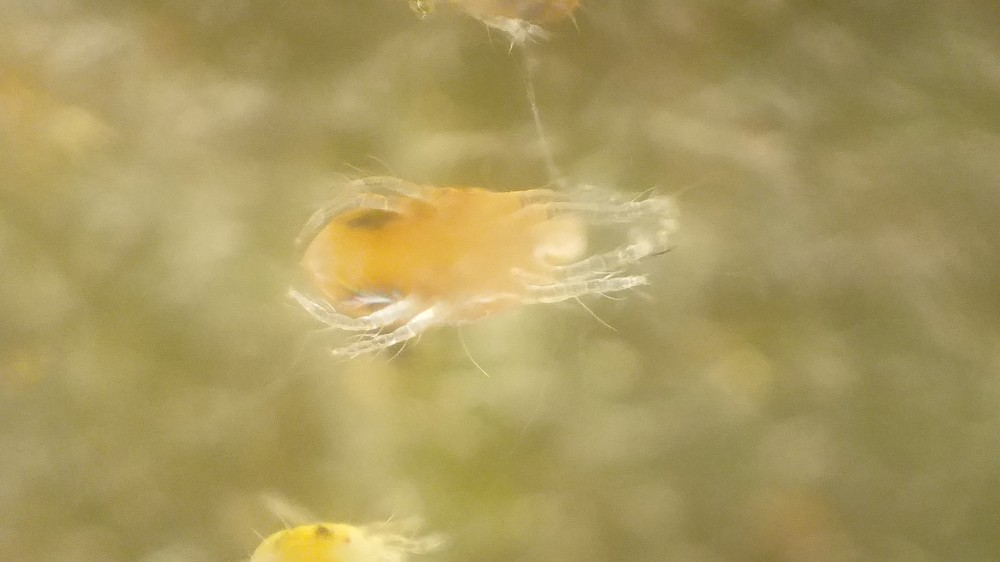Aracnido Rojo: (270, 128, 695, 378)
